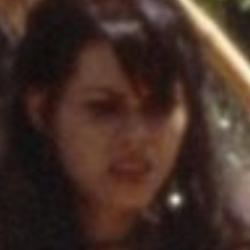face: (14, 7, 212, 233)
